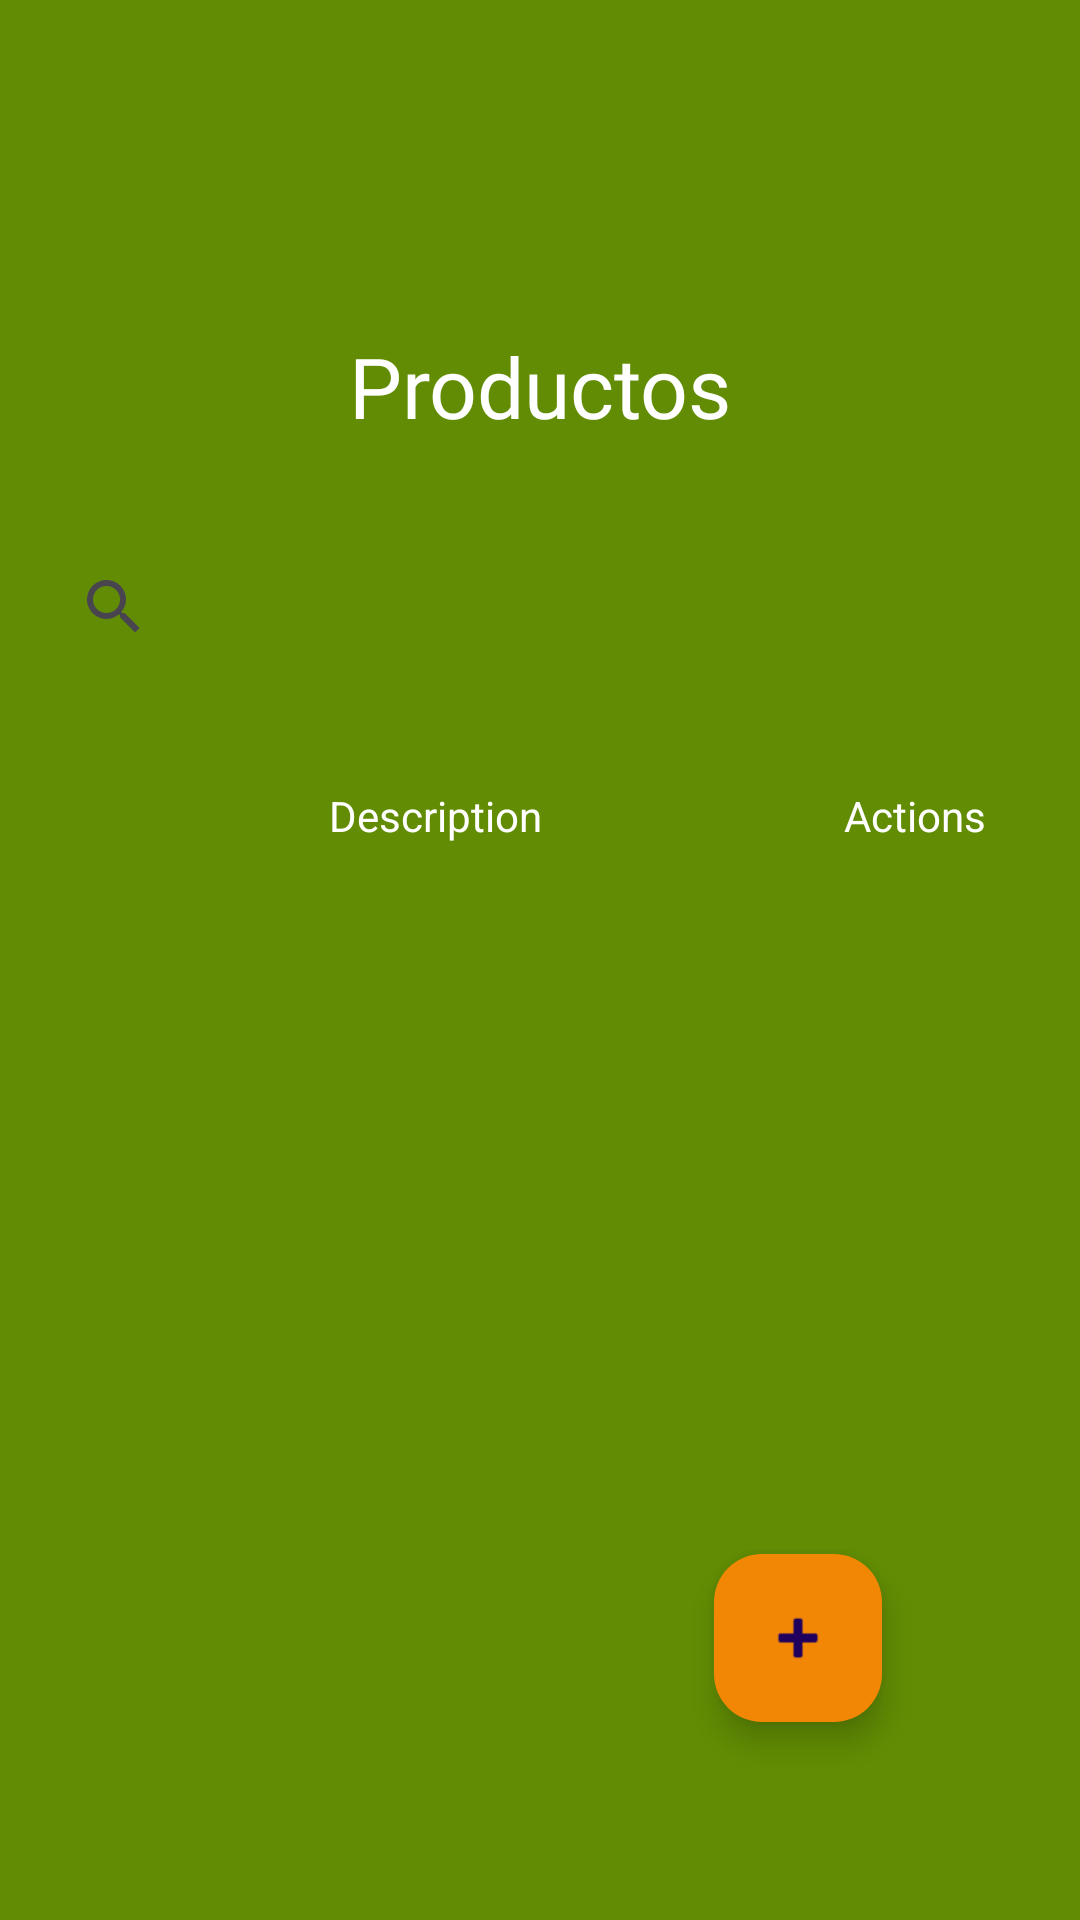

Named icons in this screenshot (1080×1920) and their bounding boxes, bbox(x1, y1, x2, y2):
add: bbox(714, 1554, 882, 1722)
